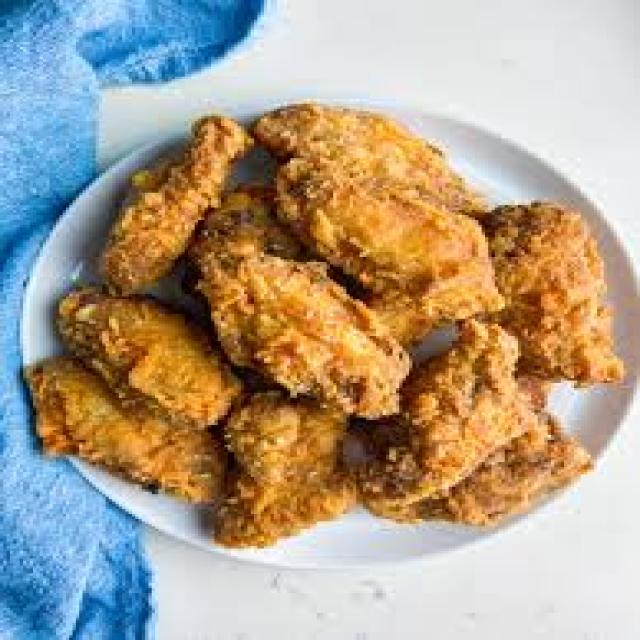Frango: (33, 99, 607, 534)
